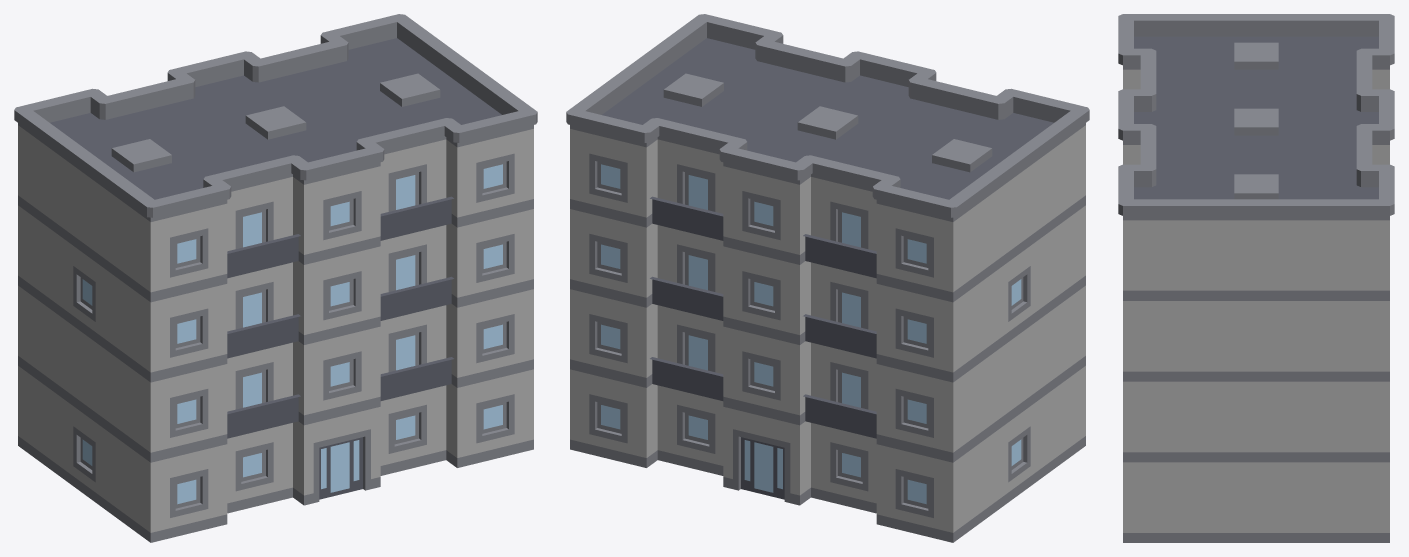
The model's file is large_buildingA.fbx.
The picture shows the model from 3 angles, left to right: view 1: azimuth 30°, elevation 25°; view 2: azimuth 150°, elevation 25°; view 3: azimuth 270°, elevation 25°; orthographic projection.
Parts seen in each view (by area): view 1: large_buildingA; view 2: large_buildingA; view 3: large_buildingA.
Part boxes in pixels (left/top/right/bottom): large_buildingA: left=14, top=14, right=537, bottom=542; large_buildingA: left=566, top=14, right=1089, bottom=542; large_buildingA: left=1118, top=14, right=1394, bottom=542.
Bounding box in the file's own units: 20.4 × 16.8 × 12.4.
